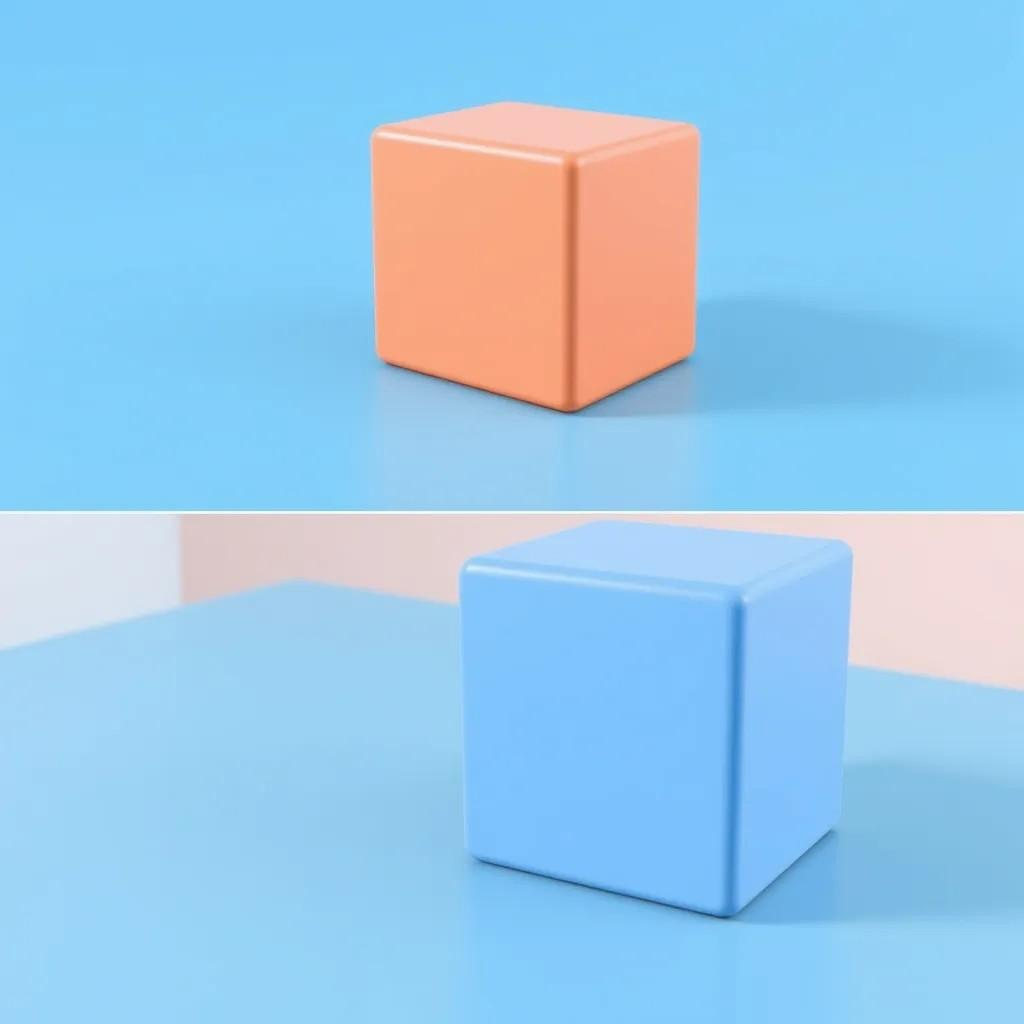cube: (457, 517, 853, 917), (369, 98, 700, 413)
